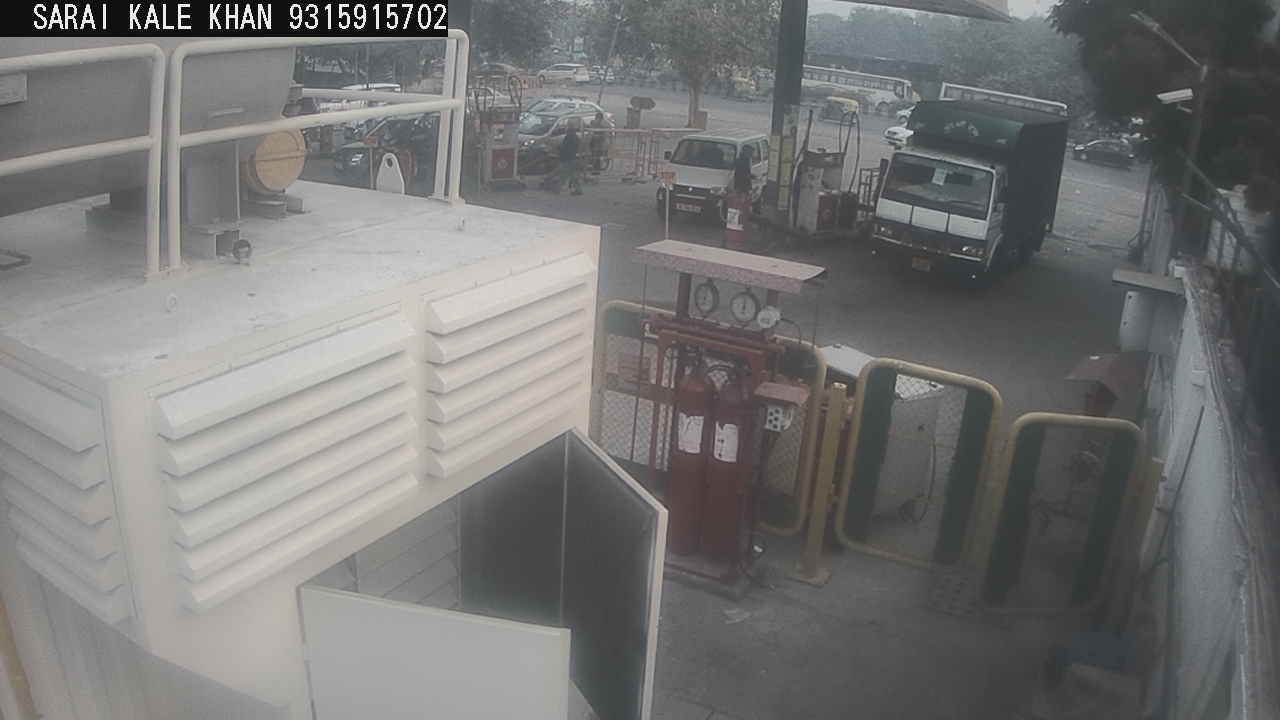Auto: (272, 84, 328, 155), (708, 71, 768, 107), (807, 95, 864, 128)
Car: (645, 118, 786, 233), (315, 102, 454, 195), (487, 98, 624, 180), (311, 76, 409, 135), (513, 90, 616, 141), (1059, 127, 1144, 177), (456, 78, 520, 122), (518, 56, 594, 92), (875, 99, 919, 160), (464, 54, 521, 86)
HMV: (855, 88, 1081, 304)
Others: (541, 114, 588, 201)
Others Other: (649, 162, 680, 246), (362, 126, 378, 192)
